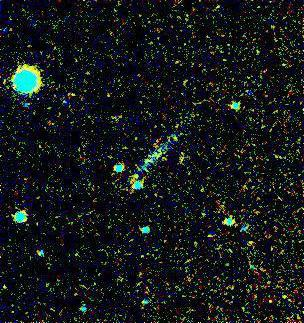star: (121, 162, 151, 192)
